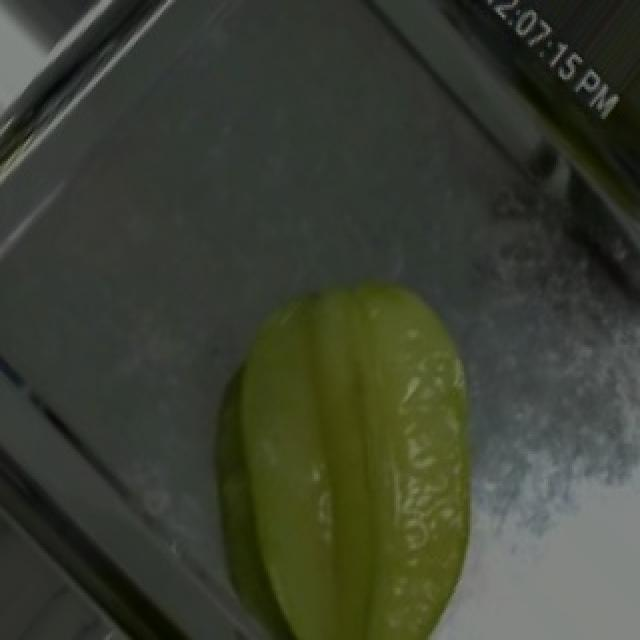fruit: (158, 196, 582, 640)
